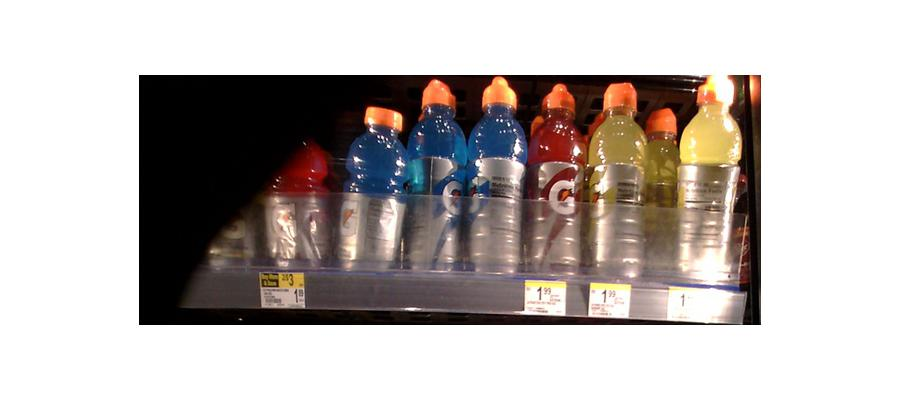bottle: (678, 86, 741, 287), (587, 81, 649, 282), (336, 102, 405, 275), (408, 76, 466, 277), (468, 79, 527, 276), (528, 82, 584, 280), (264, 133, 334, 267), (646, 108, 685, 271)
